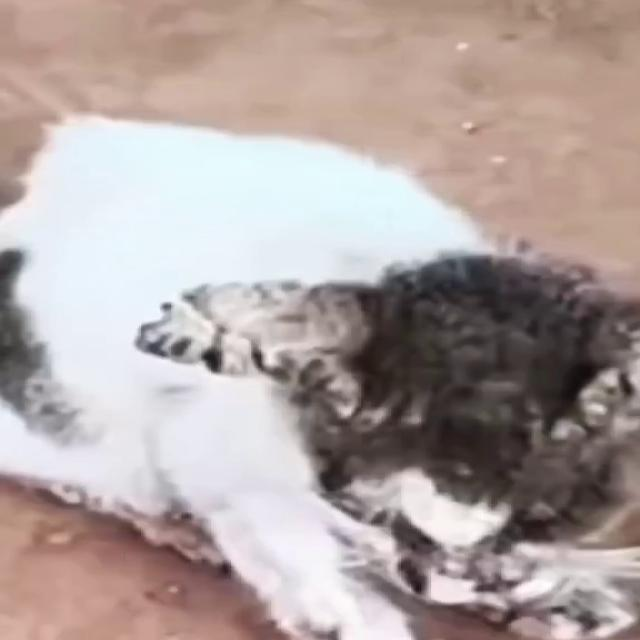ghe: (130, 252, 421, 441)
